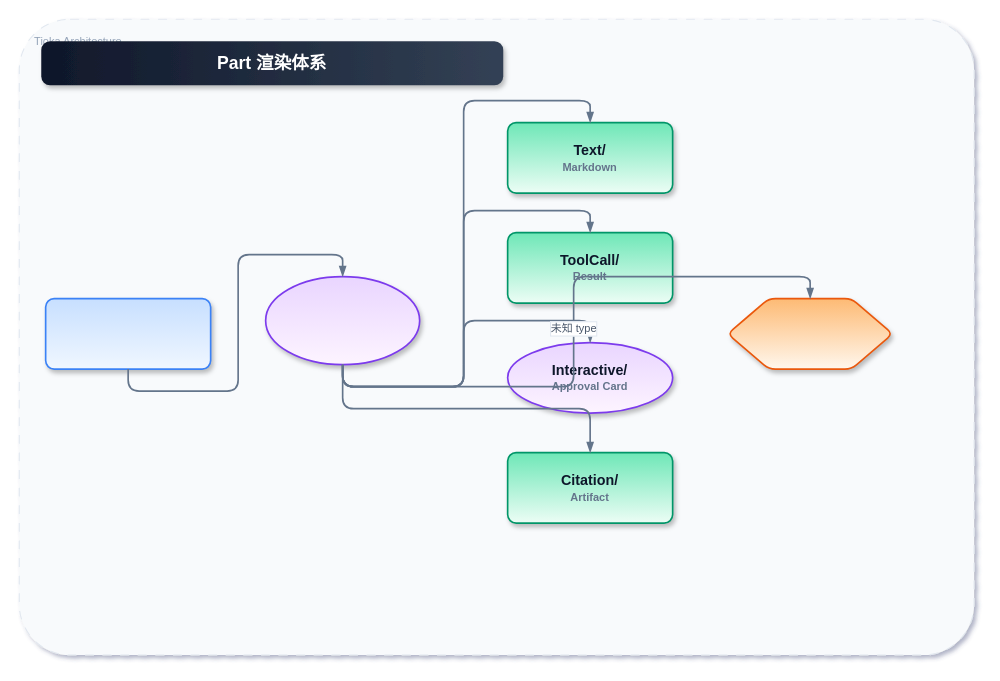
This 1000x681 diagram has some shape labels left out. The shapes that lost their labels are listed below. From the top down, each one's centre as x and y in pixels, then its label:
At point 129,335: "SSE/API Part JSON".
At point 343,322: "PartRenderer".
At point 811,335: "Fallback".
